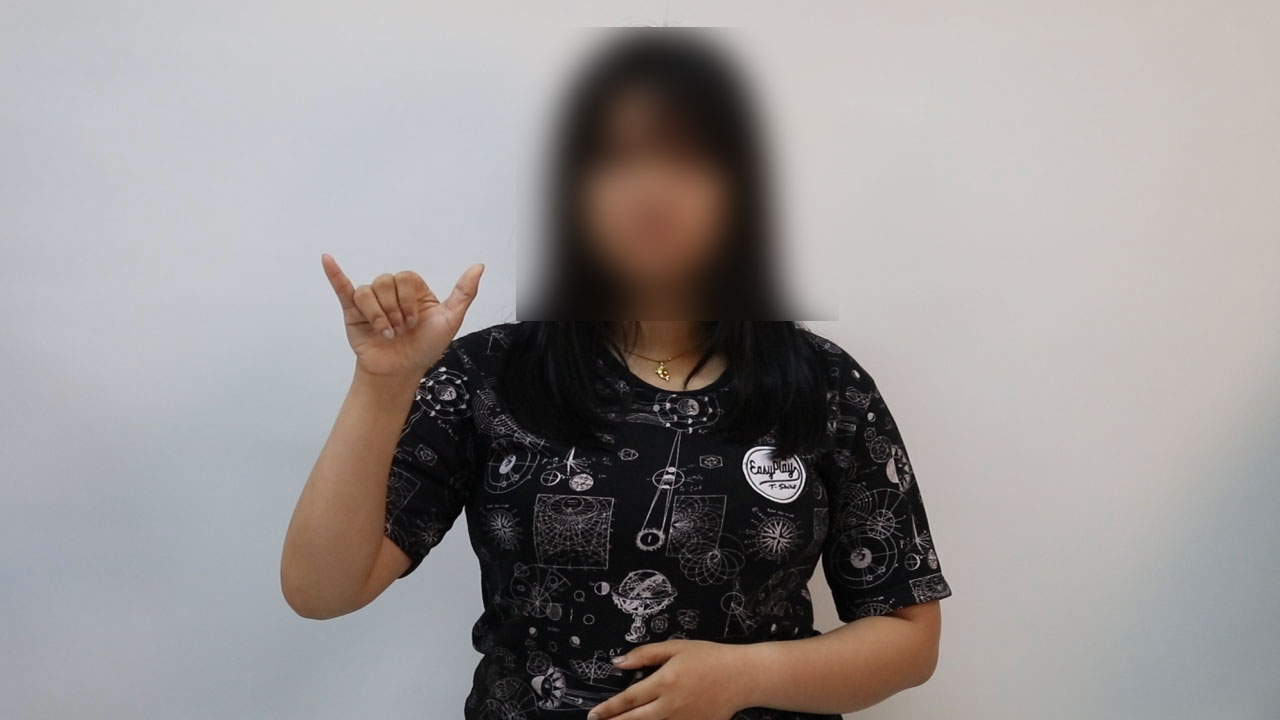yor: (308, 242, 495, 388)
